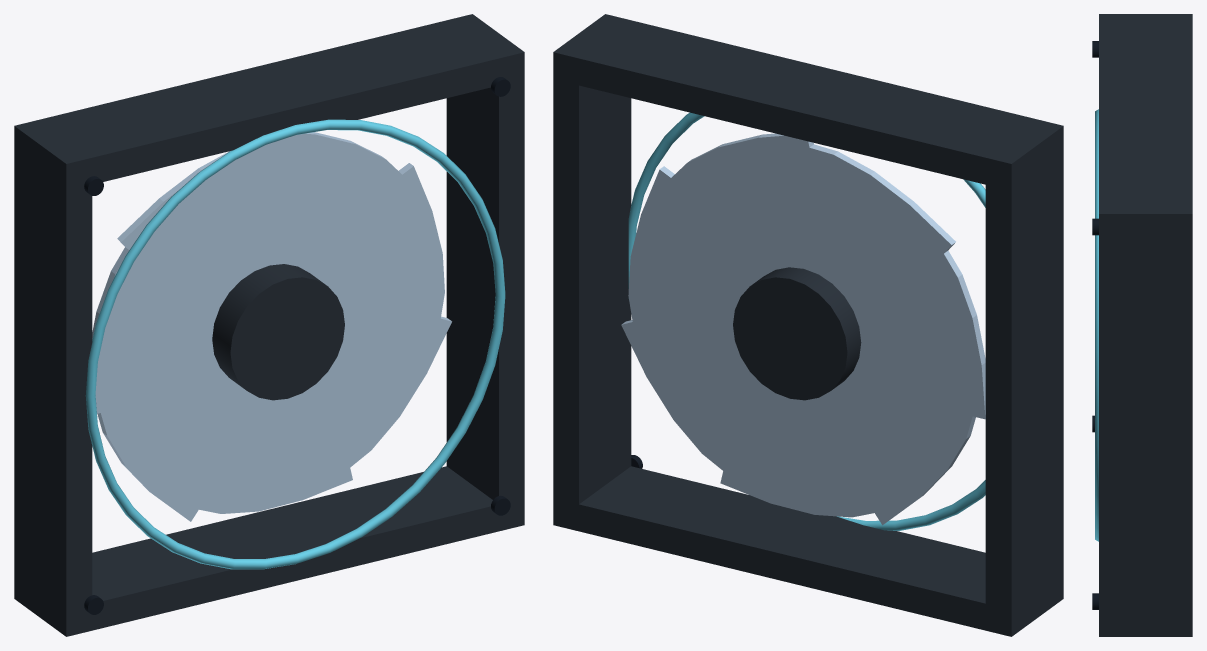
Rendered from retail-lian-li-uni-fan-tl-140-reverse-blade-wireless-black.glb.
3 views of the same model, side by side, from view 1: azimuth 30°, elevation 25°; view 2: azimuth 150°, elevation 25°; view 3: azimuth 270°, elevation 25° (orthographic). The views are drawn at different scales.
Visible parts, largest first — view 1: Frame edge (×4), Blade (×7), Intake rim, Motor hub; view 2: Frame edge (×4), Blade (×7), Motor hub, Intake rim; view 3: Frame edge (×3), Intake rim.
Part boxes in pixels (<box>): Frame edge (×4): <box>14,14,524,636</box>; Blade (×7): <box>92,132,451,521</box>; Intake rim: <box>85,119,505,569</box>; Motor hub: <box>212,264,344,400</box>; Frame edge (×4): <box>553,14,1063,636</box>; Blade (×7): <box>621,133,985,525</box>; Motor hub: <box>733,267,861,400</box>; Intake rim: <box>628,112,985,530</box>; Frame edge (×3): <box>1099,14,1192,636</box>; Intake rim: <box>1095,109,1098,541</box>.
Size of the model in its own units: 0.142 by 0.14 by 0.03.
